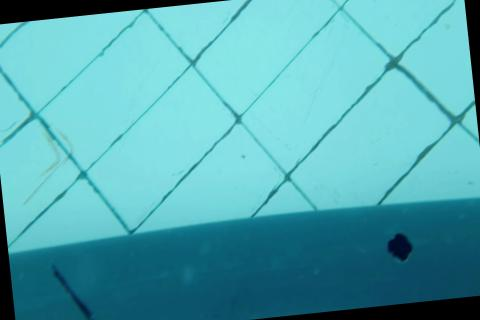kebocoran: (384, 230, 415, 266)
keretakan: (50, 263, 101, 320)
